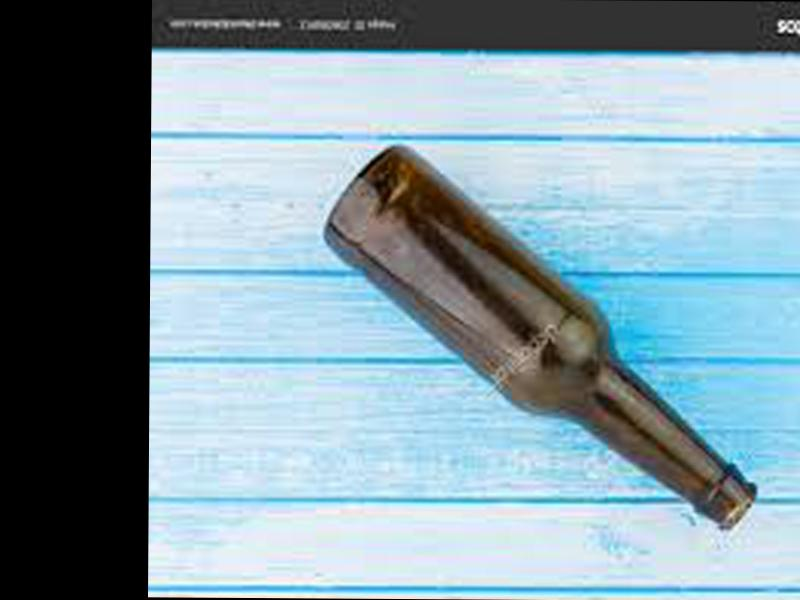Beer: (321, 138, 755, 532)
